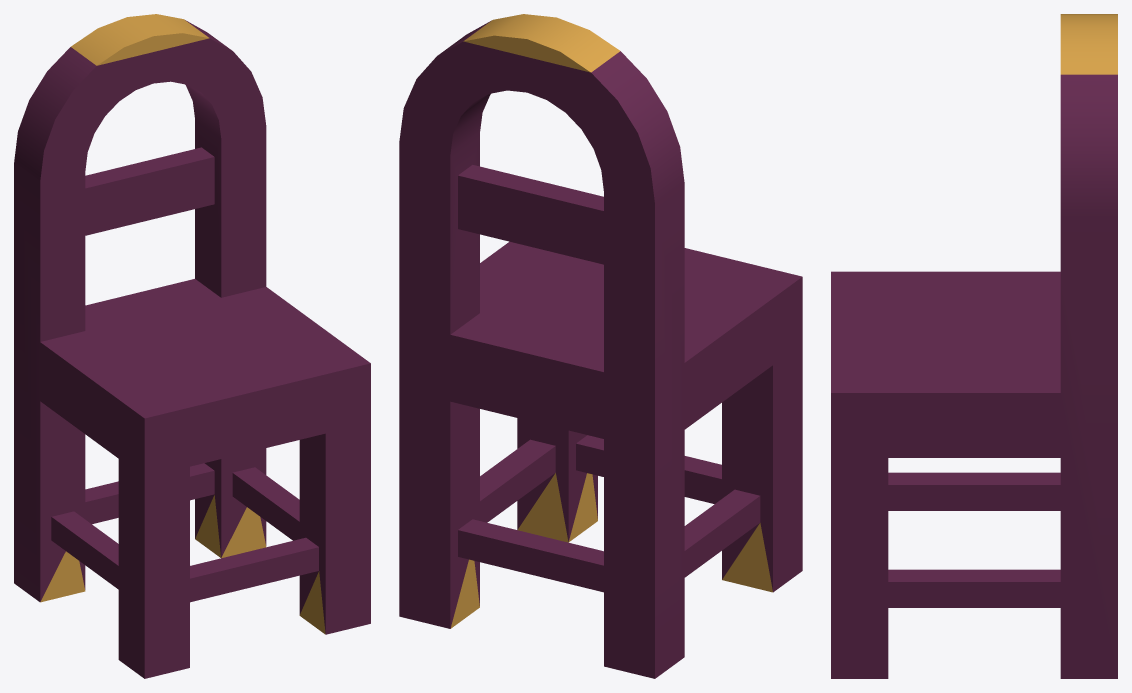
File: chairRounded.glb
The picture shows the model from 3 angles, left to right: view 1: azimuth 30°, elevation 25°; view 2: azimuth 150°, elevation 25°; view 3: azimuth 270°, elevation 25°; orthographic projection. The views are drawn at different scales.
Parts seen in each view (by area): view 1: chairRounded(Clone); view 2: chairRounded(Clone); view 3: chairRounded(Clone).
Boxes of the visible parts, left/top/right/bottom form: chairRounded(Clone): left=14, top=14, right=370, bottom=678; chairRounded(Clone): left=399, top=14, right=802, bottom=678; chairRounded(Clone): left=831, top=14, right=1117, bottom=678.
Bounding box in the file's own units: 0.4176 × 0.95 × 0.4176.
